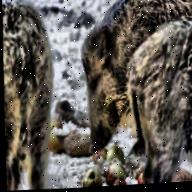boar: (76, 0, 192, 155), (121, 16, 192, 185), (0, 0, 58, 190)
